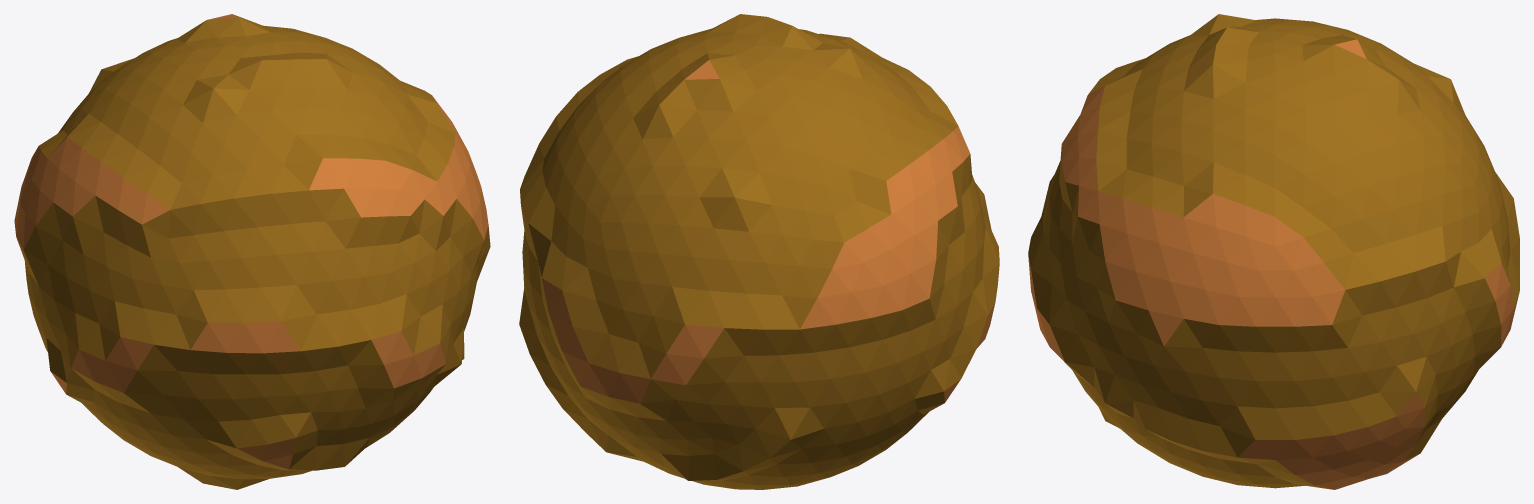
File: Planet3.fbx
3 views of the same model, side by side, from view 1: azimuth 30°, elevation 25°; view 2: azimuth 150°, elevation 25°; view 3: azimuth 270°, elevation 25° (orthographic). The views are drawn at different scales.
Parts seen in each view (by area): view 1: Icosphere; view 2: Icosphere; view 3: Icosphere.
Boxes of the visible parts, bbox=[...] form: Icosphere: bbox=[14, 14, 490, 489]; Icosphere: bbox=[519, 14, 999, 489]; Icosphere: bbox=[1028, 14, 1519, 489].
Bounding box in the file's own units: 976 × 986 × 994.
